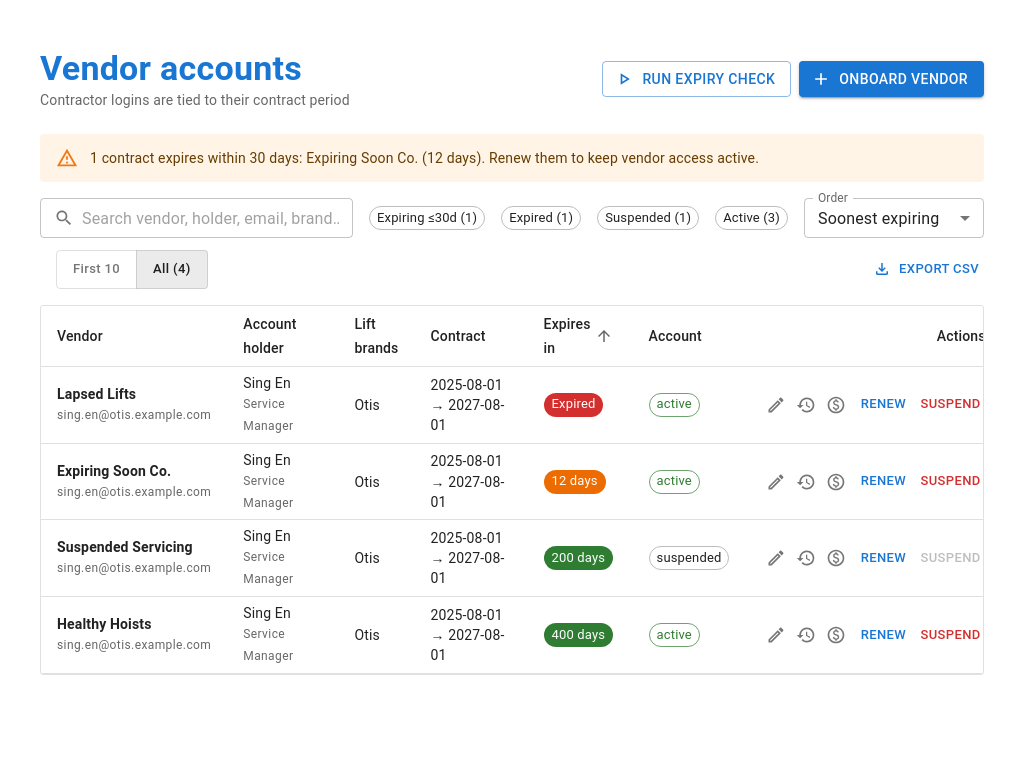
Test: AdminVendorPage — filters › the Order control re-sorts, and a column click keeps it honest
Click the dropdown named "Order": [879, 218] box [818, 208, 939, 228]
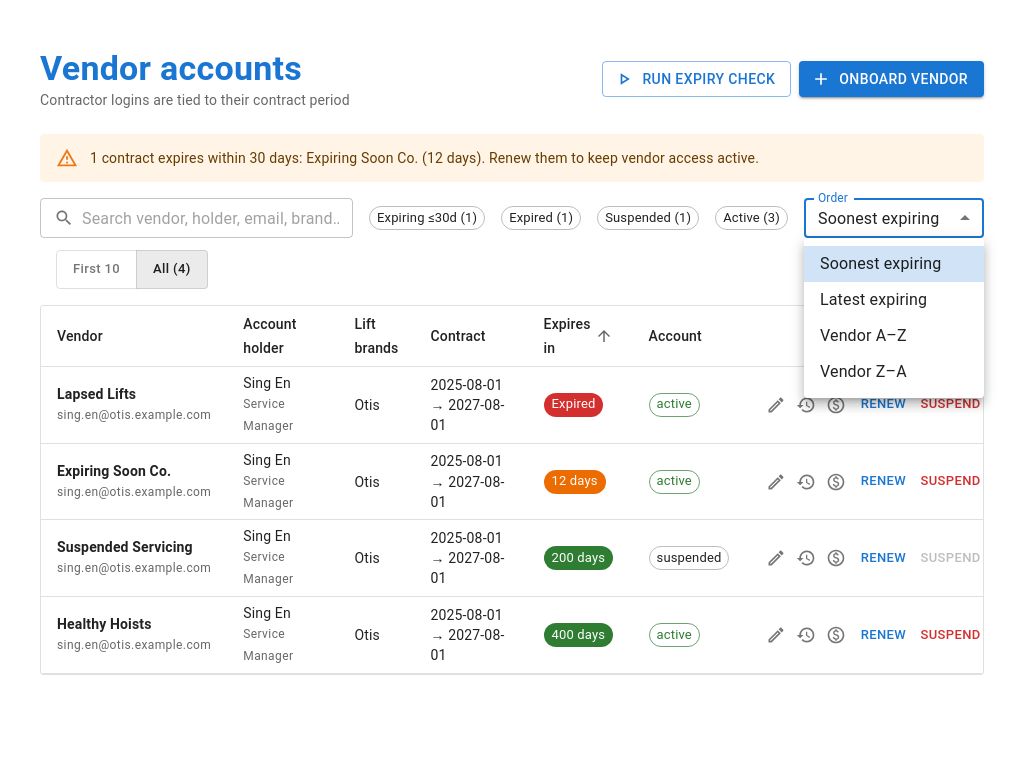
Click the option "Vendor A–Z": [863, 336] box [820, 326, 907, 345]
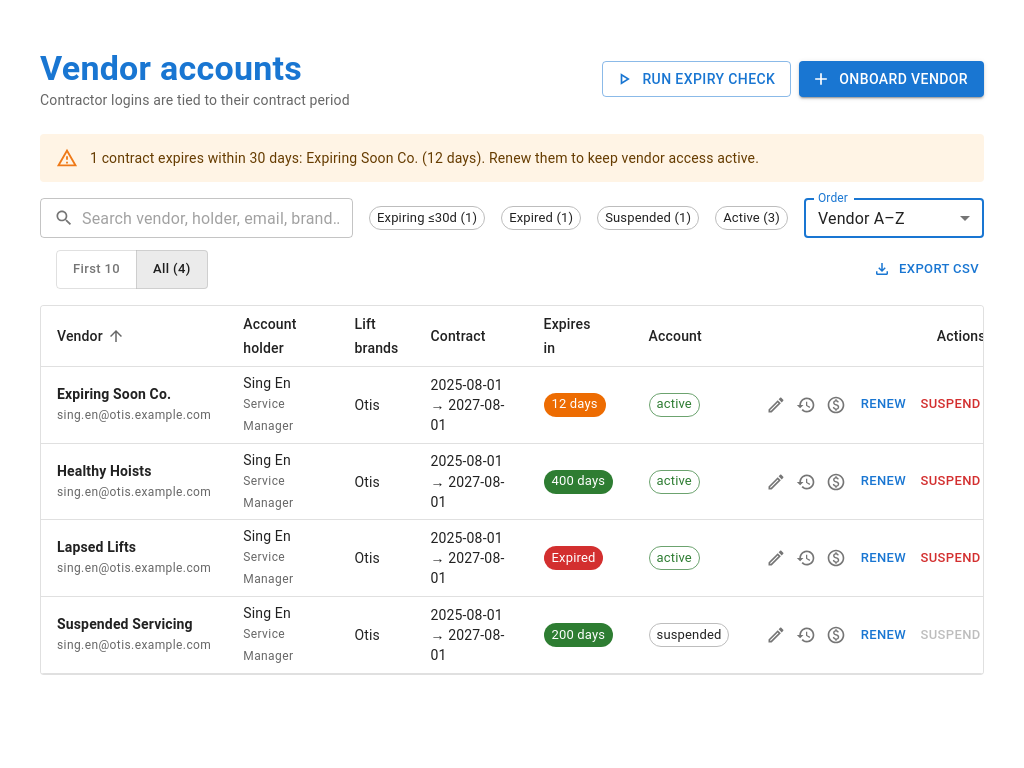
expect the text "Expiring Soon Co." is shown: met, box [57, 386, 171, 402]
Sorting by a column with no shortcut clears the control's selection.
Click the button "Account holder": [270, 324] box [243, 316, 297, 356]
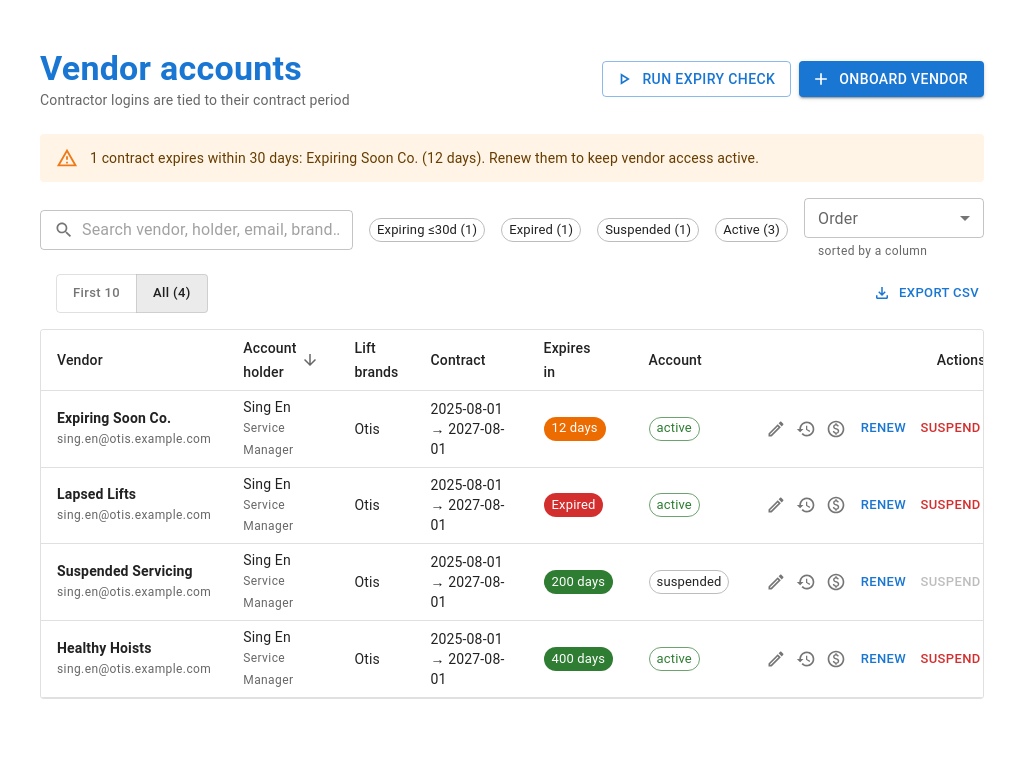
expect the text "sorted by a column" is shown: met, box [818, 244, 927, 258]
